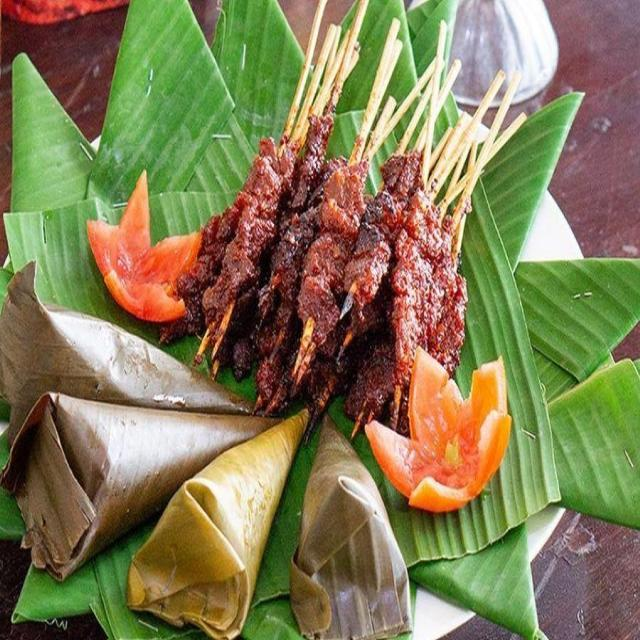Sate: (200, 23, 501, 424)
